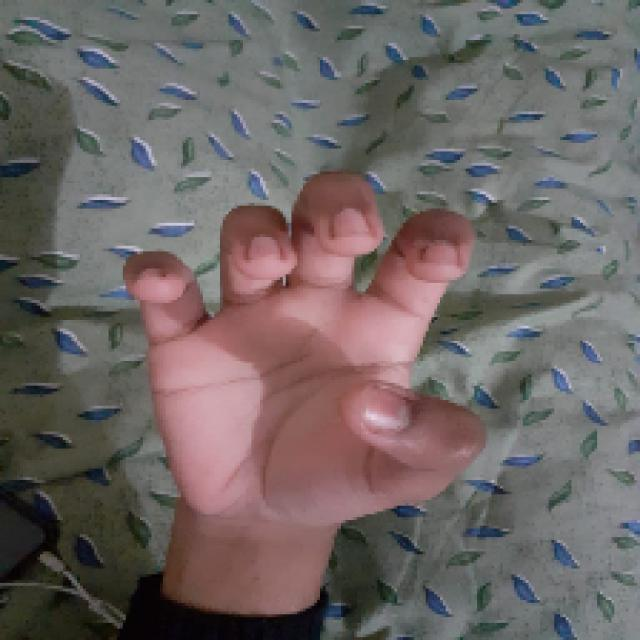Nail: (360, 386, 411, 431), (421, 241, 458, 266), (335, 209, 369, 234), (249, 235, 280, 259), (134, 268, 163, 285)
